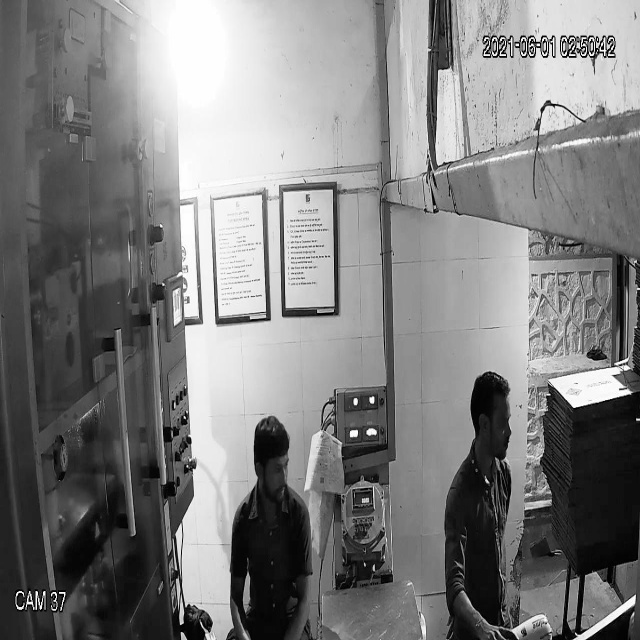Sin_gafas: (250, 443, 296, 484), (471, 408, 516, 439)
